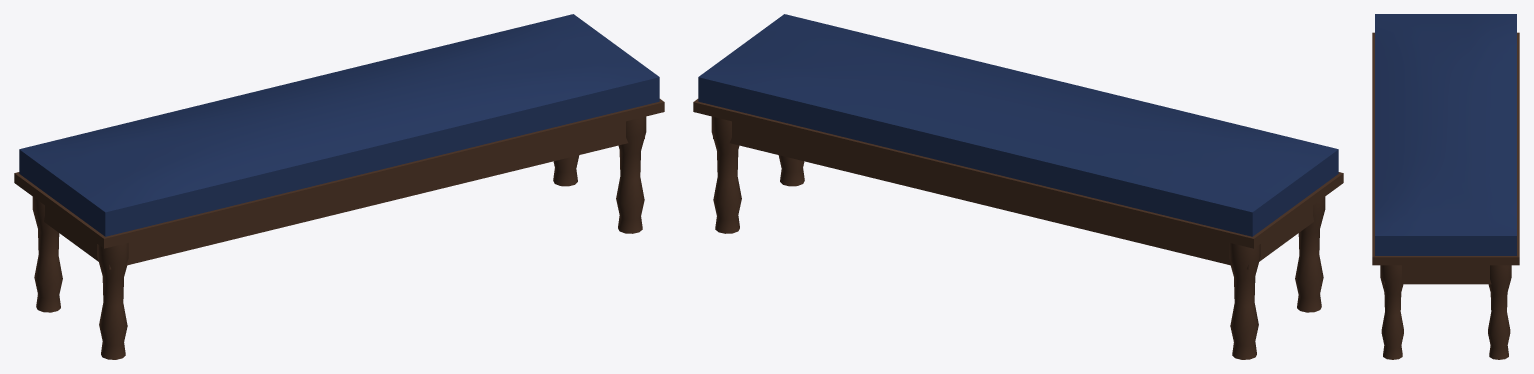
Rendered from gallery_bench.glb.
The picture shows the model from 3 angles, left to right: view 1: azimuth 30°, elevation 25°; view 2: azimuth 150°, elevation 25°; view 3: azimuth 270°, elevation 25°; orthographic projection. The views are drawn at different scales.
Parts seen in each view (by area): view 1: gallery_bench; view 2: gallery_bench; view 3: gallery_bench.
Boxes of the visible parts, box(x1,y1,x2,y2) form: gallery_bench: box(14, 14, 664, 359); gallery_bench: box(693, 14, 1343, 359); gallery_bench: box(1372, 14, 1519, 359).
Size of the model in its own units: 1.8 by 0.51 by 0.5.
